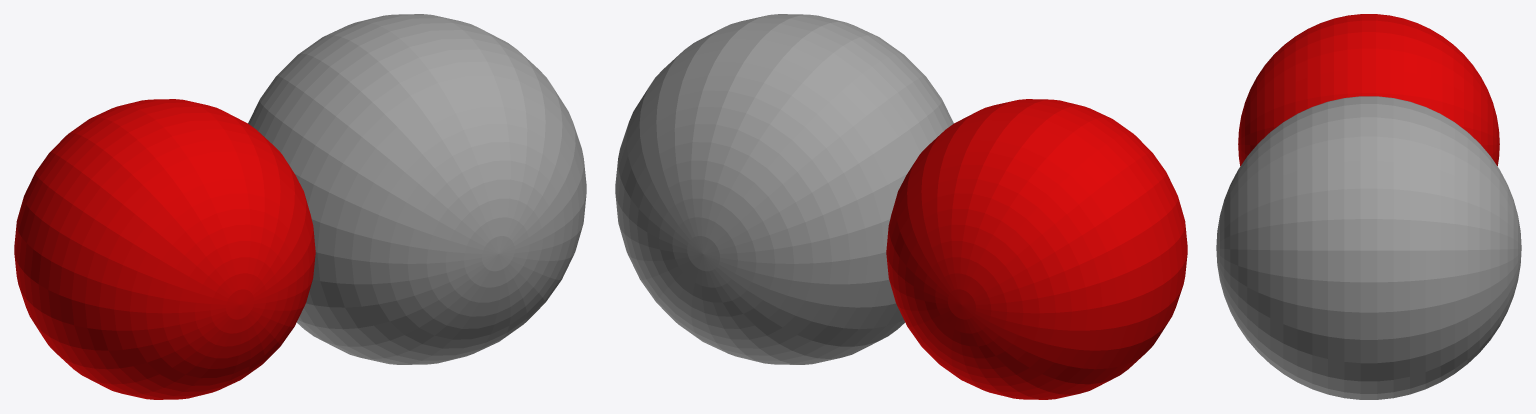
File: Carbon Monoxide.glb
The picture shows the model from 3 angles, left to right: view 1: azimuth 30°, elevation 25°; view 2: azimuth 150°, elevation 25°; view 3: azimuth 270°, elevation 25°; orthographic projection. The views are drawn at different scales.
Visible parts, largest first — view 1: world; view 2: world; view 3: world.
Boxes of the visible parts, x1,y1,x2,y2 form: world: (14,14,586,399); world: (615,14,1187,399); world: (1216,14,1521,399).
Bounding box in the file's own units: 2.43 × 1.39 × 1.4.
